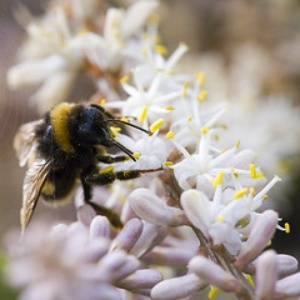bee: (9, 101, 124, 229)
